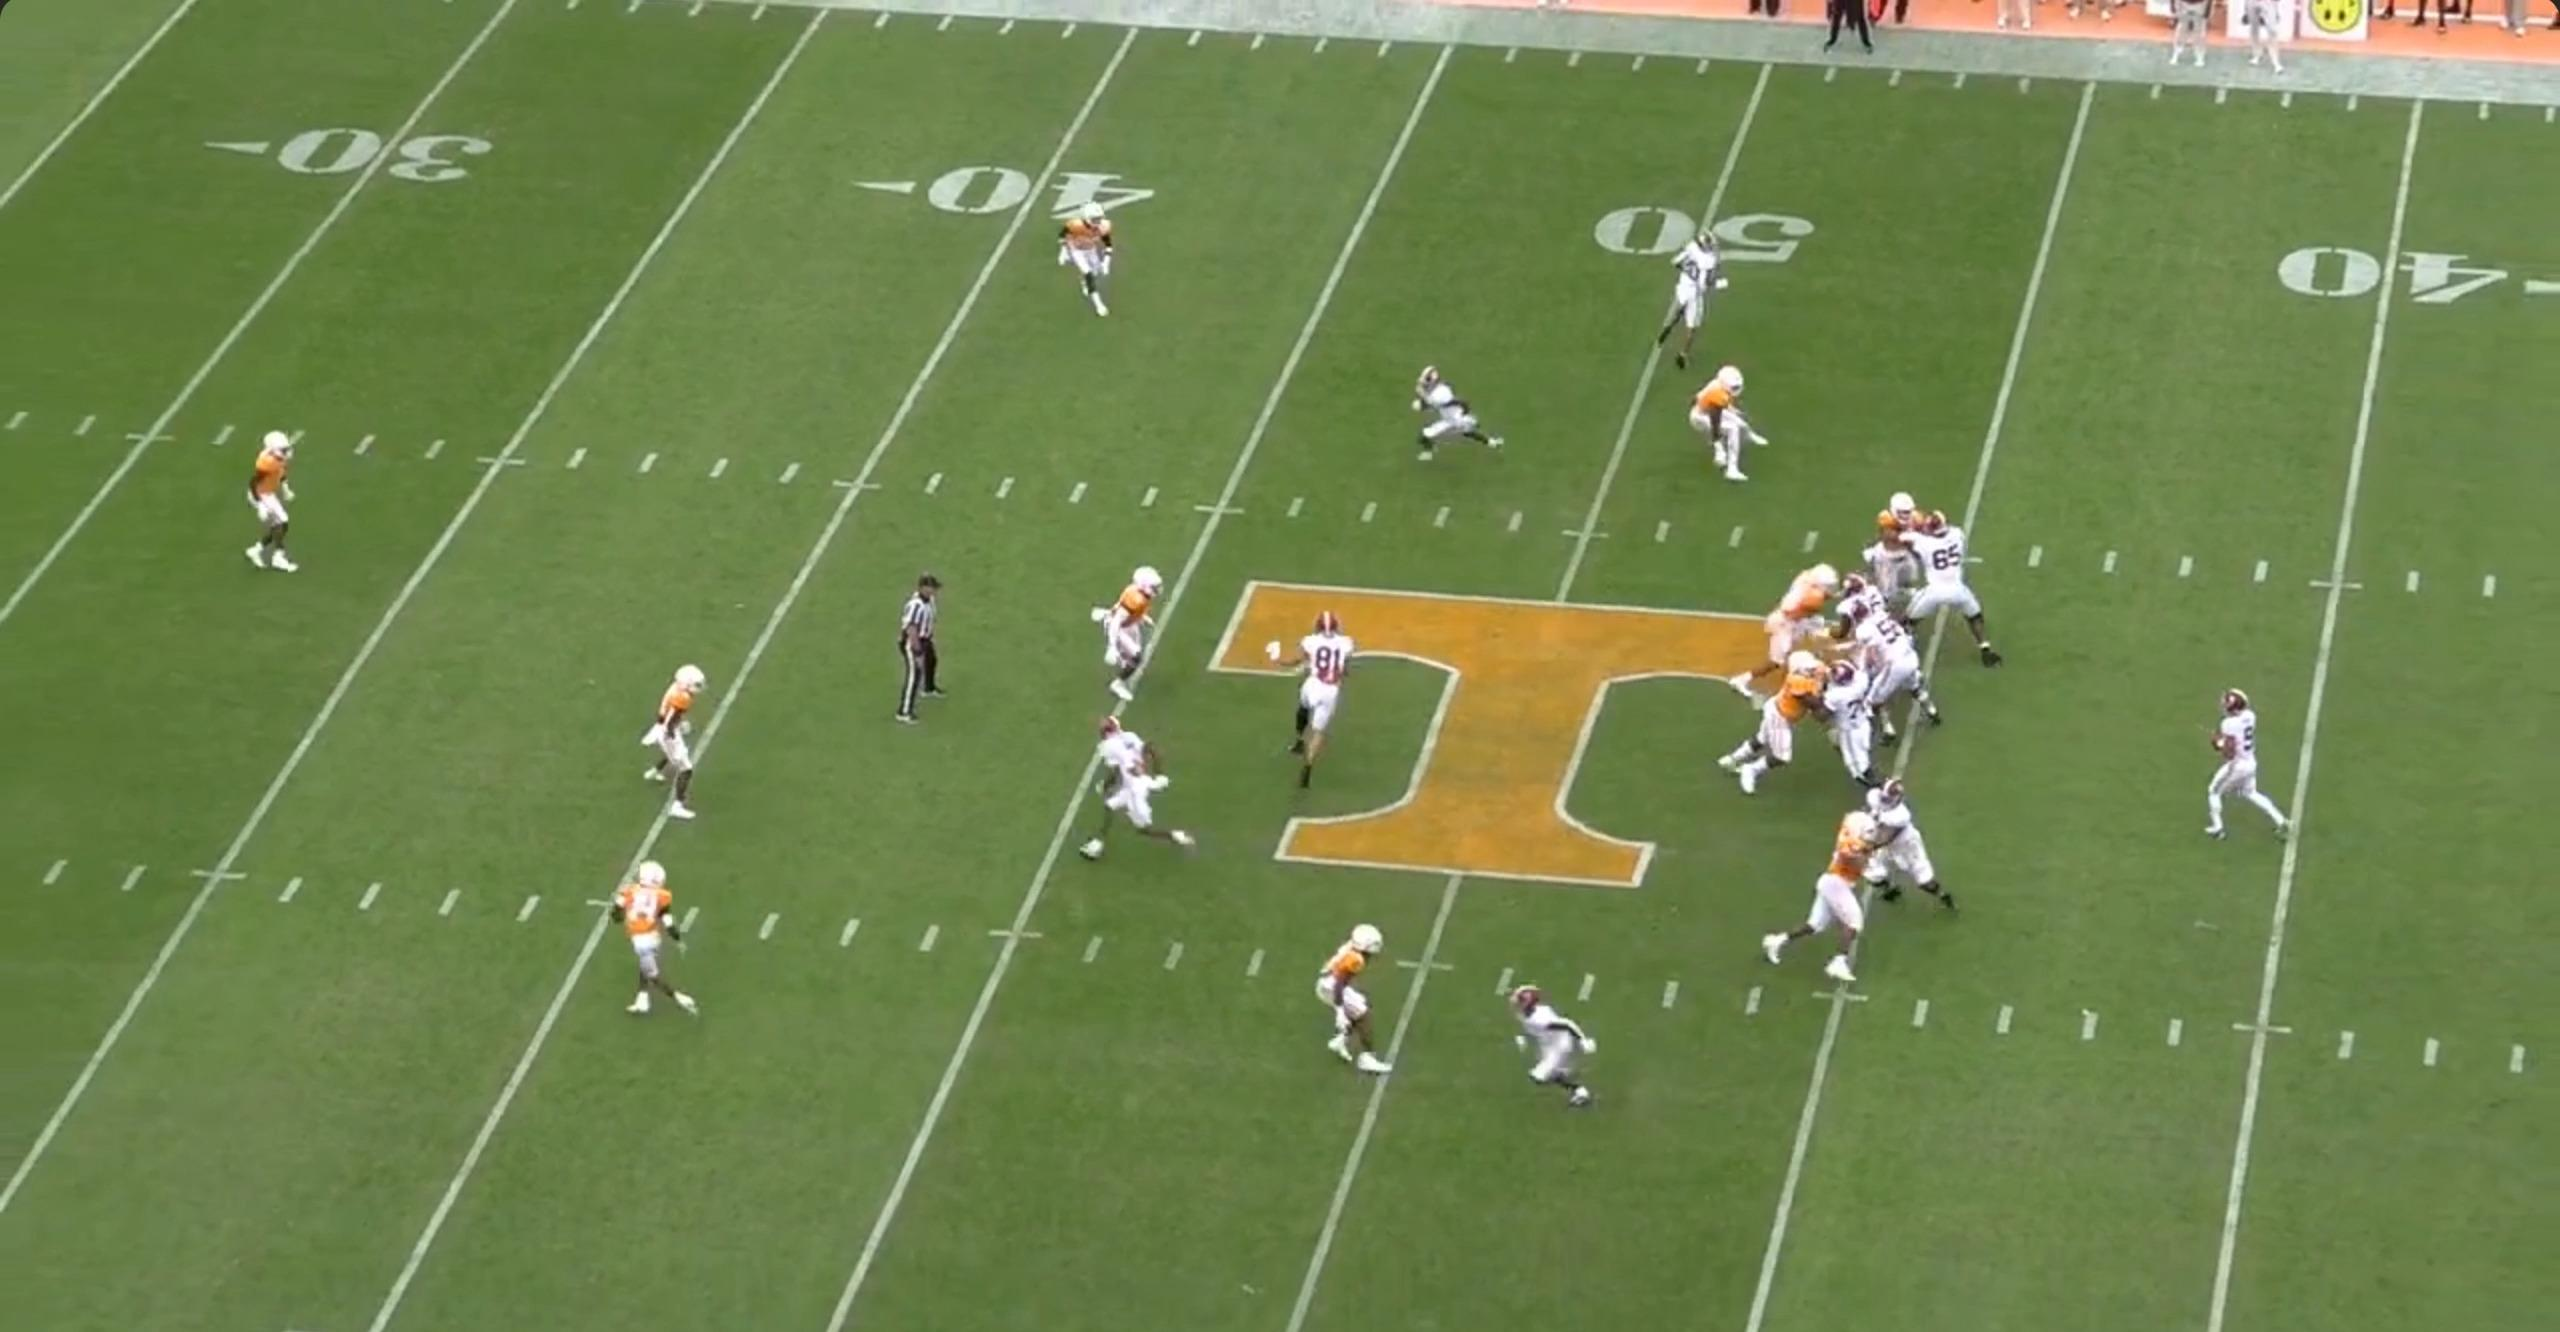defense: (1752, 802, 1890, 995), (1713, 653, 1825, 802), (1725, 559, 1839, 699), (613, 856, 701, 1024), (1309, 921, 1388, 1085), (645, 658, 718, 826), (1089, 557, 1165, 707), (1685, 357, 1769, 486), (242, 427, 306, 584), (1067, 193, 1131, 316), (1866, 493, 1928, 606)
oline: (1905, 516, 2005, 667), (1854, 784, 1956, 924), (1852, 599, 1942, 745), (1808, 665, 1879, 794), (1813, 572, 1886, 638)
qb: (2191, 687, 2299, 851)
ref: (889, 572, 957, 736), (1798, 5, 1886, 73)
skill: (1087, 718, 1209, 870), (1277, 604, 1356, 790), (1503, 982, 1603, 1117), (1402, 357, 1505, 469), (1646, 230, 1725, 371)
